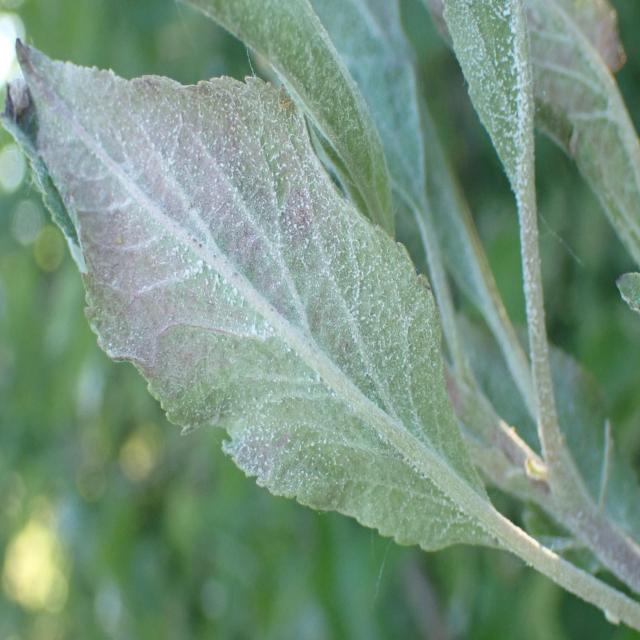Powdery_mildew: (9, 26, 497, 570), (188, 0, 403, 264), (441, 0, 559, 370), (523, 0, 639, 291), (331, 0, 432, 224), (421, 125, 507, 342)
